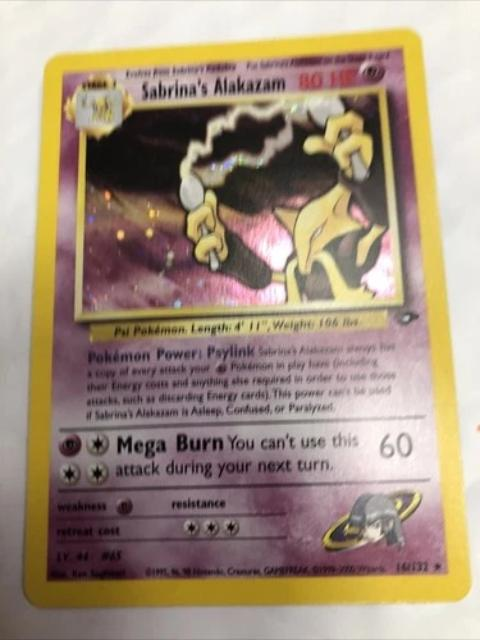Card: (18, 22, 472, 611)
Name: (136, 72, 289, 105)
